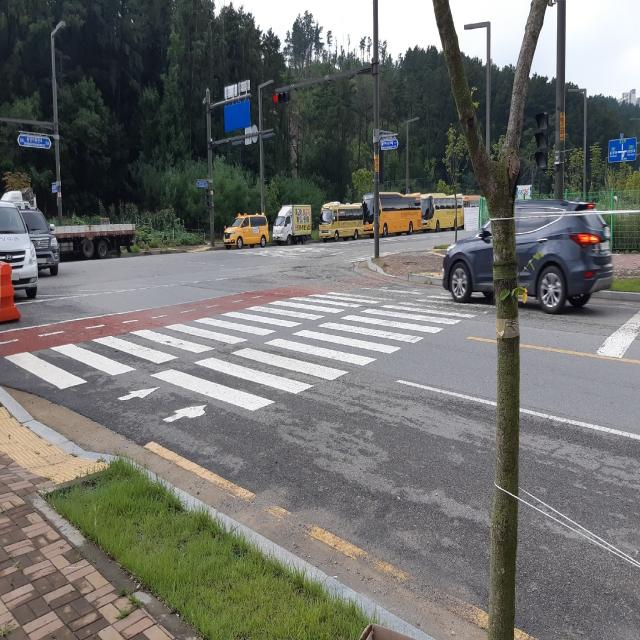횡단보도: (5, 288, 477, 425)
